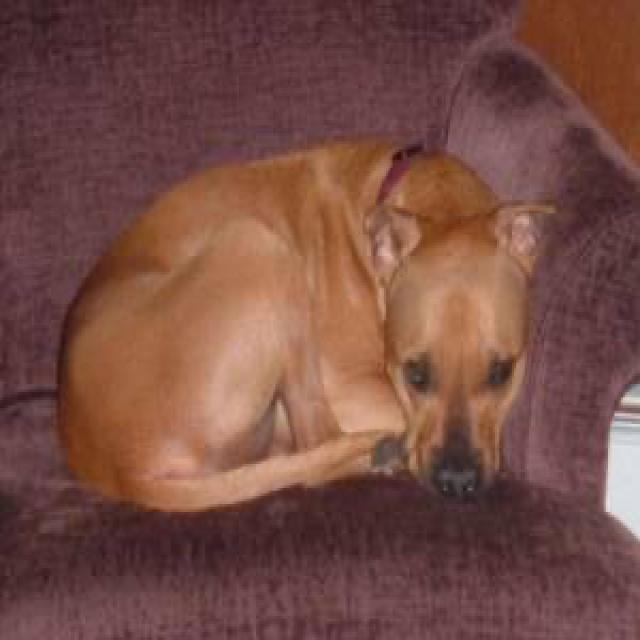dog: (363, 198, 550, 502)
